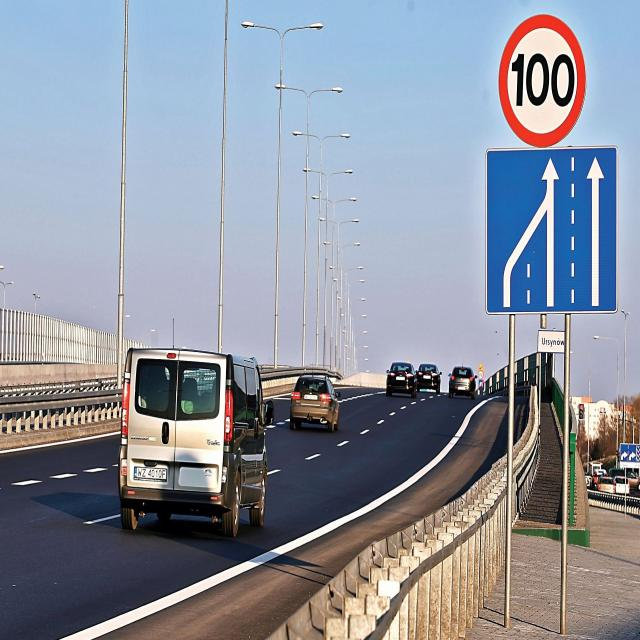Speed Limit -100-: (511, 52, 575, 108)
